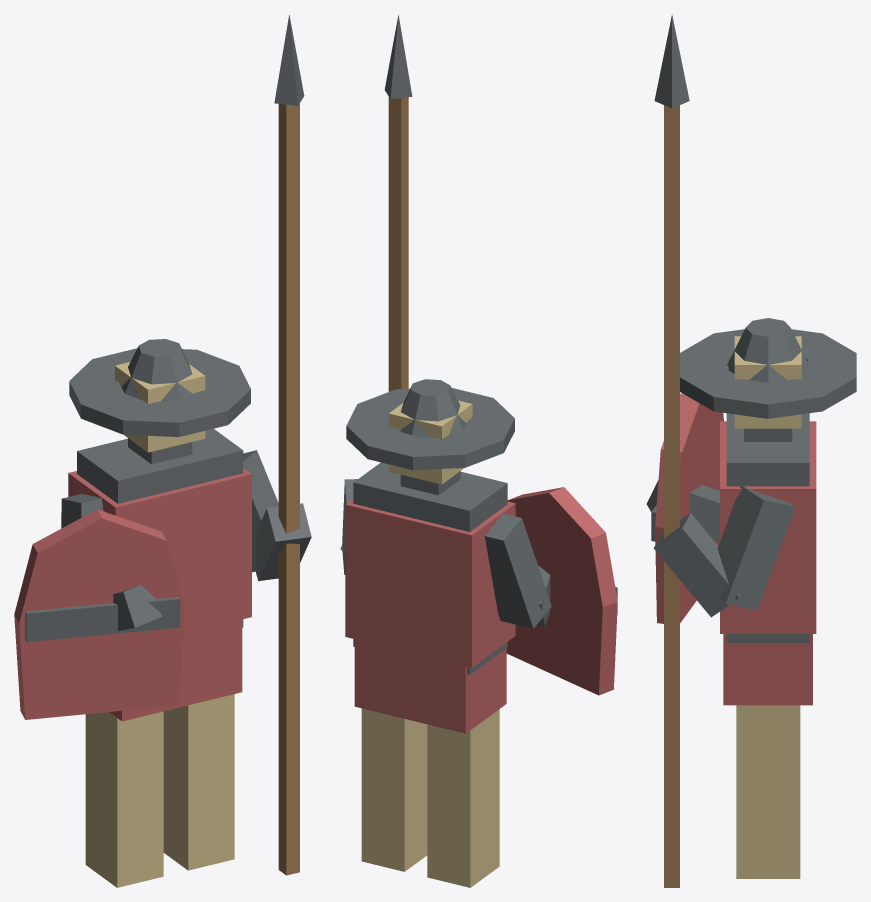
Rendered from spearman-red.glb.
3 renders of one model, left to right at view 1: azimuth 30°, elevation 25°; view 2: azimuth 150°, elevation 25°; view 3: azimuth 270°, elevation 25°, orthographic. The views are drawn at different scales.
Parts seen in each view (by area): view 1: spearman-red; view 2: spearman-red; view 3: spearman-red.
Boxes of the visible parts, left/top/right/bottom form: spearman-red: left=14, top=15, right=311, bottom=887; spearman-red: left=340, top=14, right=617, bottom=887; spearman-red: left=646, top=14, right=856, bottom=887.
Size of the model in its own units: 1.06 by 3.02 by 0.6559.
